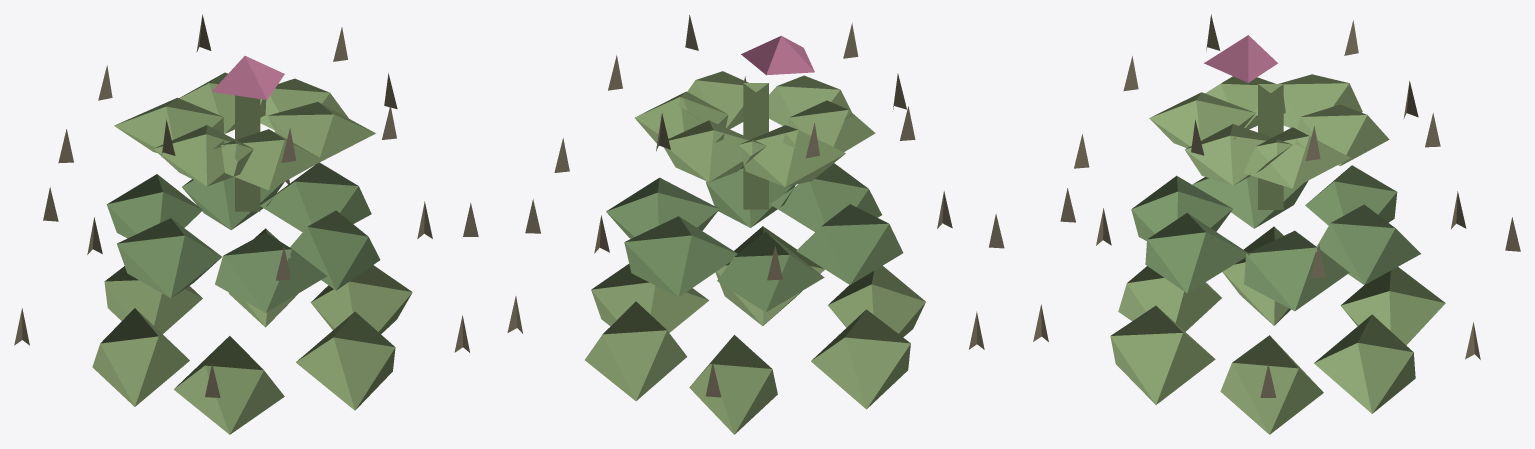
The model's file is shrub.trop.desert_succulent__summer.glb.
3 renders of one model, left to right at view 1: azimuth 30°, elevation 25°; view 2: azimuth 150°, elevation 25°; view 3: azimuth 270°, elevation 25°, orthographic.
Parts seen in each view (by area): view 1: shrub.trop.desert_succulent__summer; view 2: shrub.trop.desert_succulent__summer; view 3: shrub.trop.desert_succulent__summer.
Part boxes in pixels (<box>): shrub.trop.desert_succulent__summer: <box>14,14,478,434</box>; shrub.trop.desert_succulent__summer: <box>507,15,1004,434</box>; shrub.trop.desert_succulent__summer: <box>1033,14,1520,434</box>.
Size of the model in its own units: 1.8 by 1.26 by 1.64.
